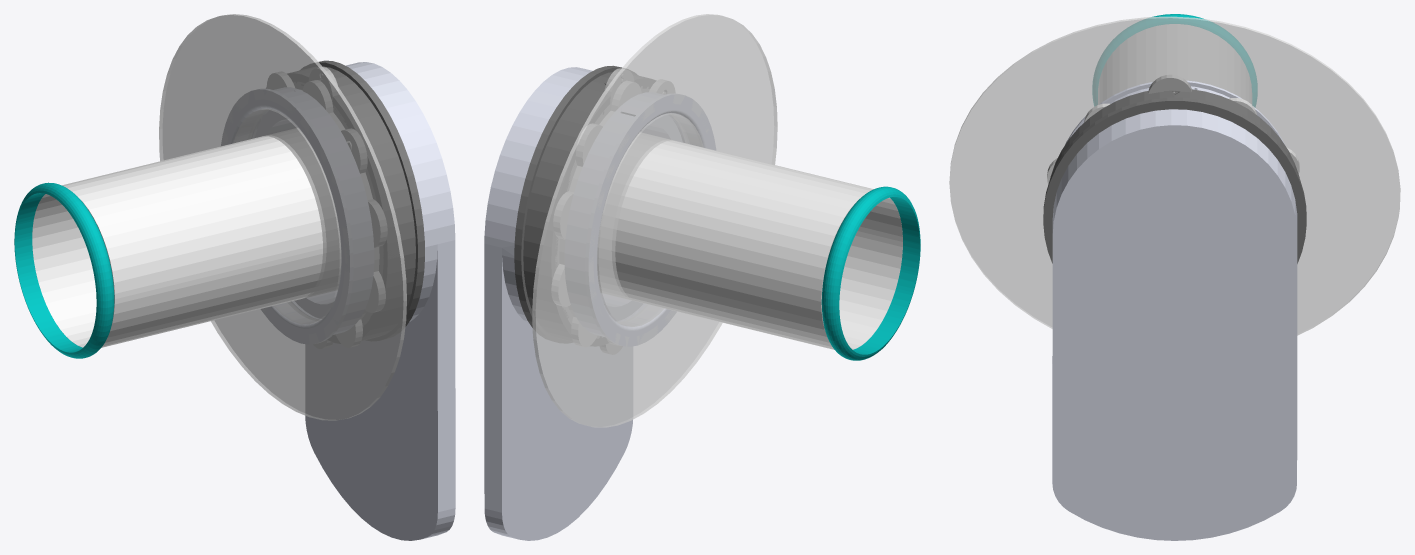
Rendered from excretory_assembly_collapsed_aga.gltf.
3 renders of one model, left to right at view 1: azimuth 30°, elevation 25°; view 2: azimuth 150°, elevation 25°; view 3: azimuth 270°, elevation 25°, orthographic. The views are drawn at different scales.
Visible parts, largest first — view 1: Separator (×8); view 2: Separator (×8); view 3: Separator (×8).
Part boxes in pixels (x1,y1,x2,y2): Separator (×8): [14, 14, 455, 540]; Separator (×8): [484, 14, 920, 540]; Separator (×8): [949, 14, 1400, 540].
Bounding box in the file's own units: 0.0943 × 0.1395 × 0.1198.
